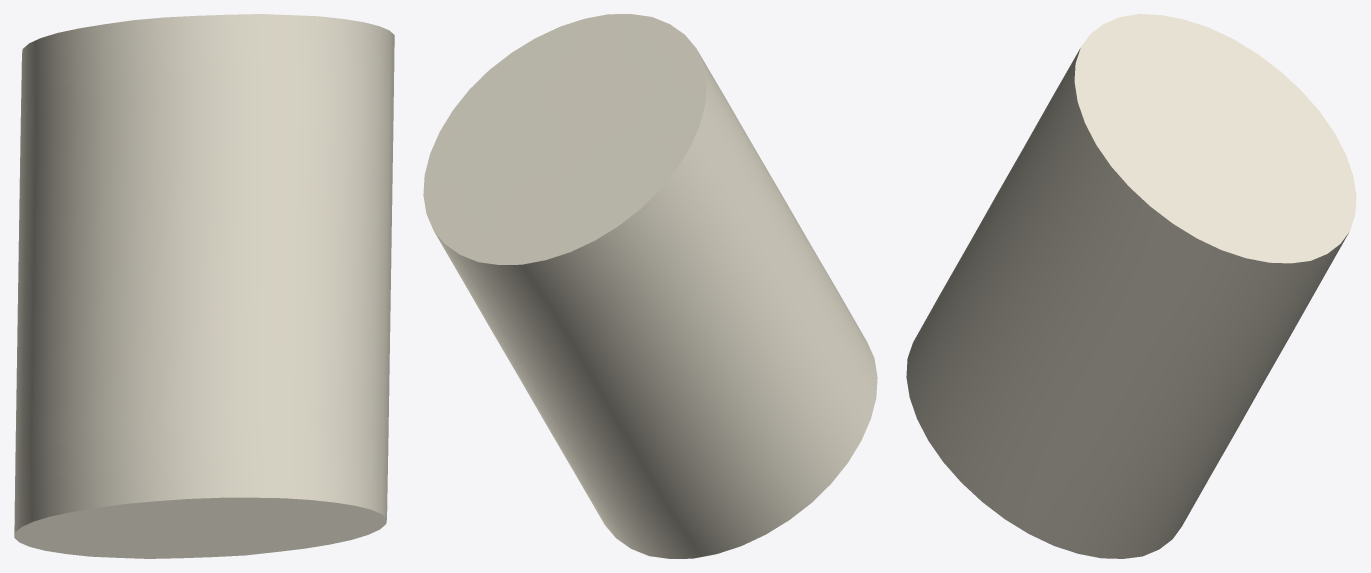
File: fma54784_mm2078.glb
3 views of the same model, side by side, from view 1: azimuth 30°, elevation 25°; view 2: azimuth 150°, elevation 25°; view 3: azimuth 270°, elevation 25° (orthographic). The views are drawn at different scales.
Visible parts, largest first — view 1: FMA54784_MM2078; view 2: FMA54784_MM2078; view 3: FMA54784_MM2078.
Part boxes in pixels (box(x1,y1,x2,y2)): FMA54784_MM2078: box(14, 14, 394, 558); FMA54784_MM2078: box(423, 14, 877, 558); FMA54784_MM2078: box(906, 14, 1356, 558).
Bounding box in the file's own units: 0.00712 × 0.00942 × 0.0076.
